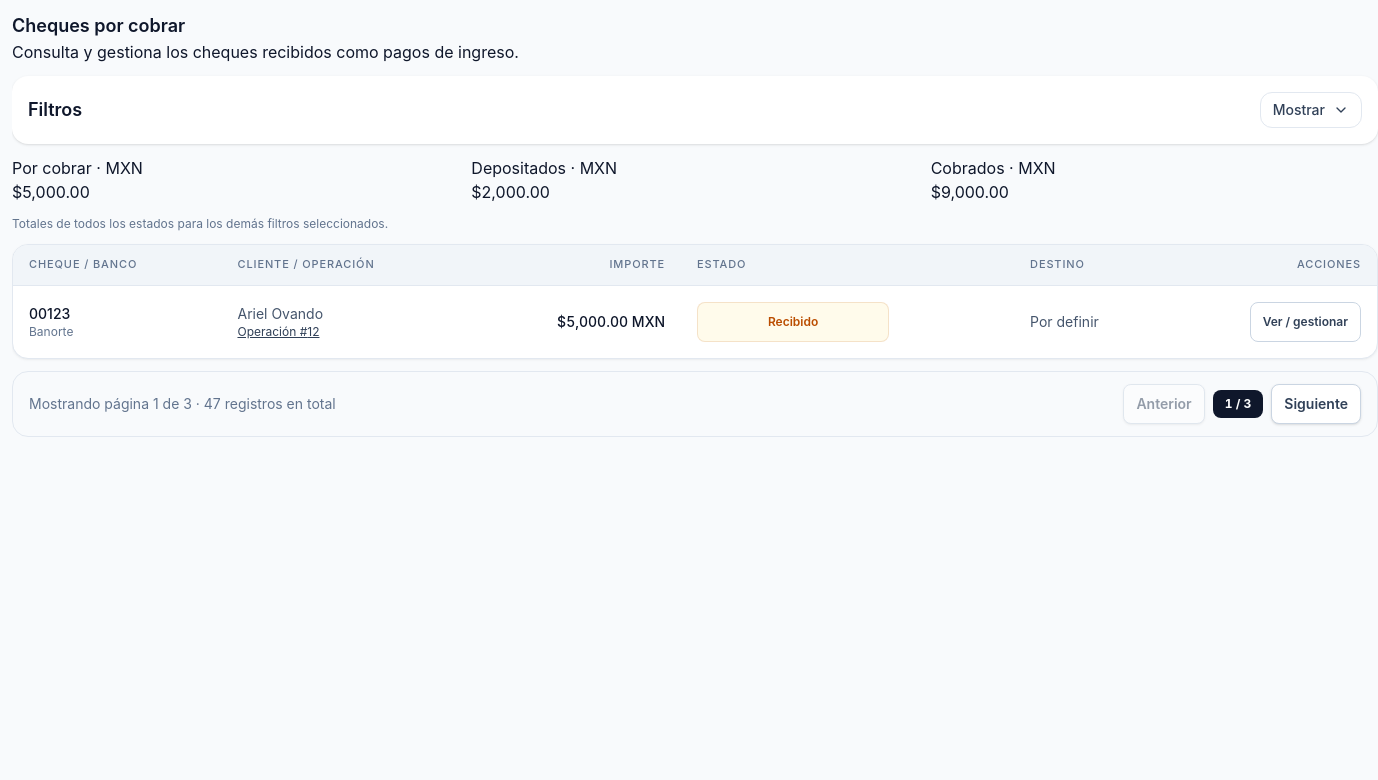
Test case: ChequesPage › avisa cuando el rango de fechas está invertido y no consulta
Expected: the text "00123" is shown, left=29, top=305, right=70, bottom=322
Click the button "Mostrar".
click(1311, 110)  # box left=1260, top=92, right=1362, bottom=128
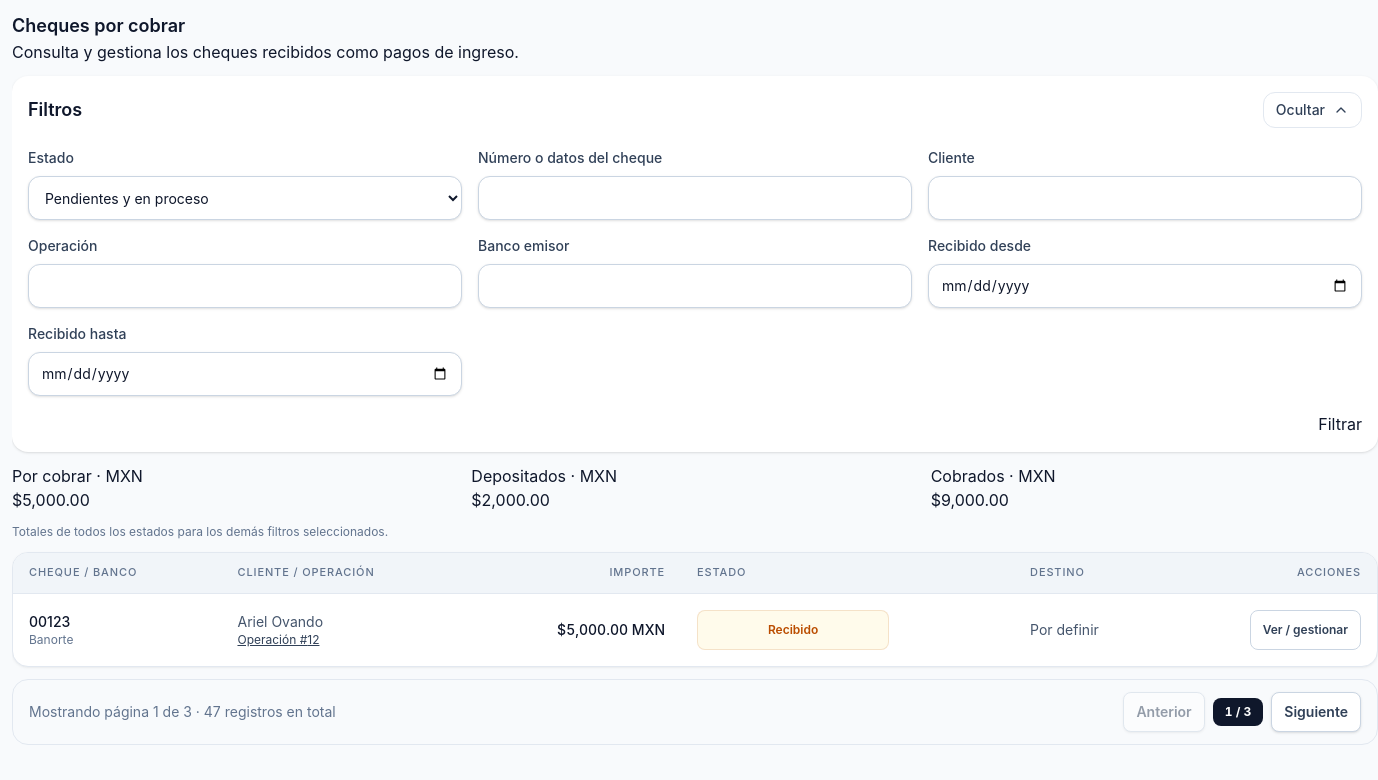
Type "2026-09-20" into the date field labelled "Recibido desde".
click(1145, 286); type("2026-09-20")  # box left=928, top=264, right=1362, bottom=308
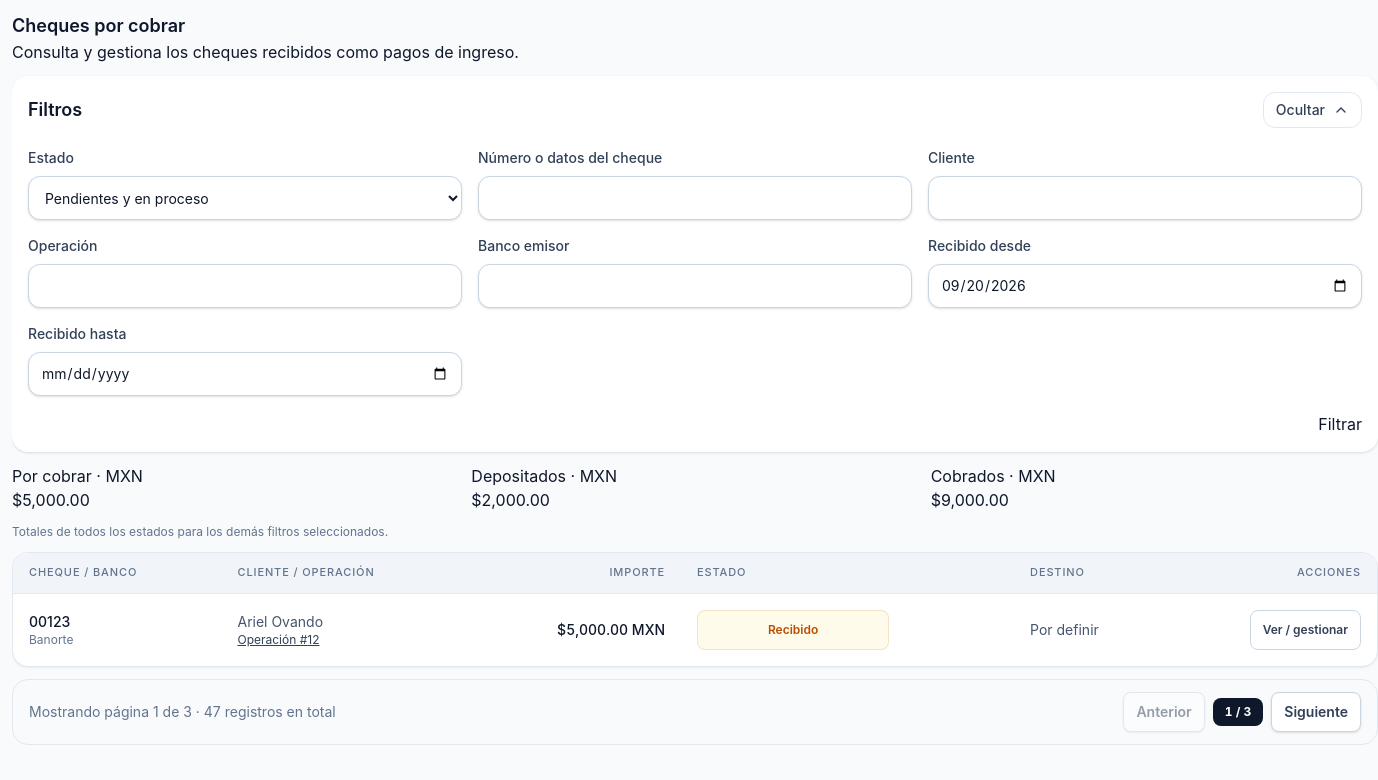
Type "2026-09-01" into the date field labelled "Recibido hasta".
click(245, 374); type("2026-09-01")  # box left=28, top=352, right=462, bottom=396
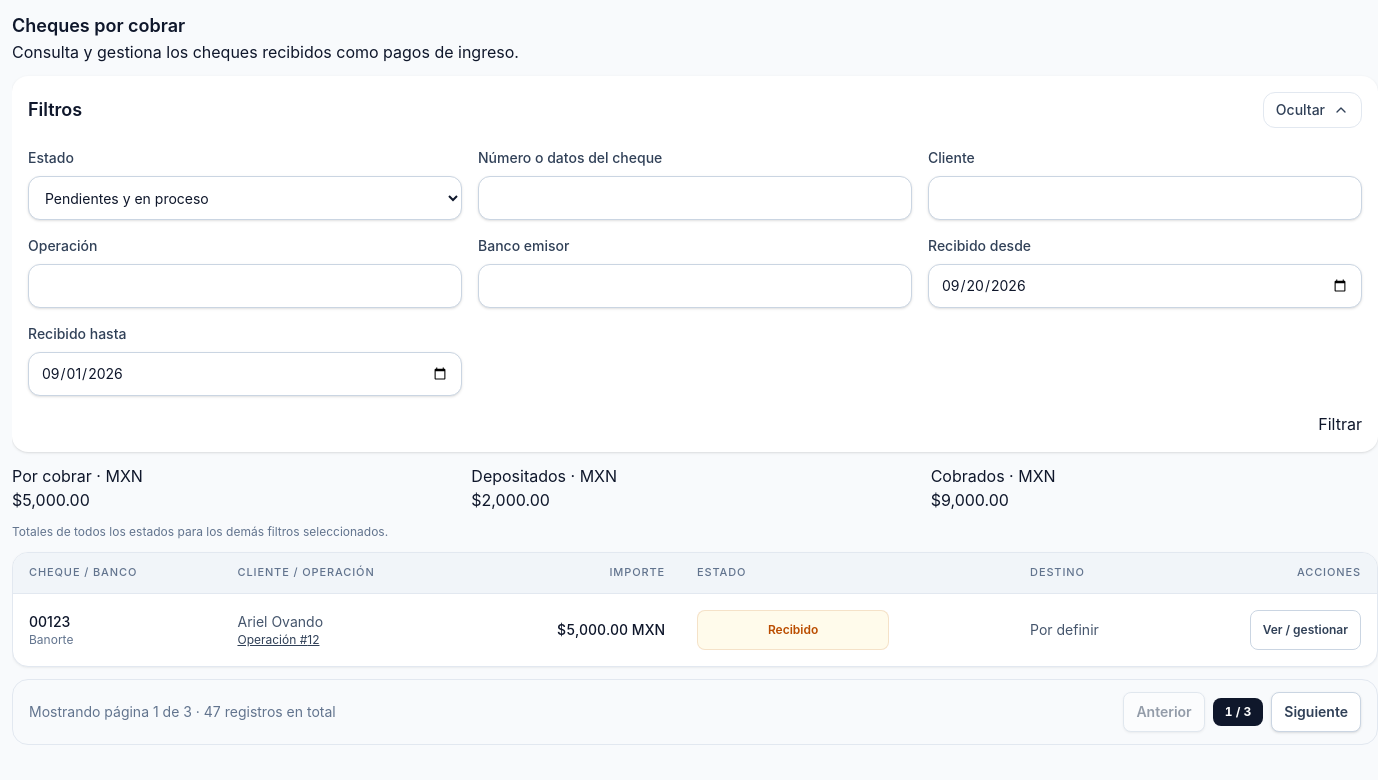
Click the button "Filtrar".
click(1340, 424)  # box left=1318, top=412, right=1362, bottom=436
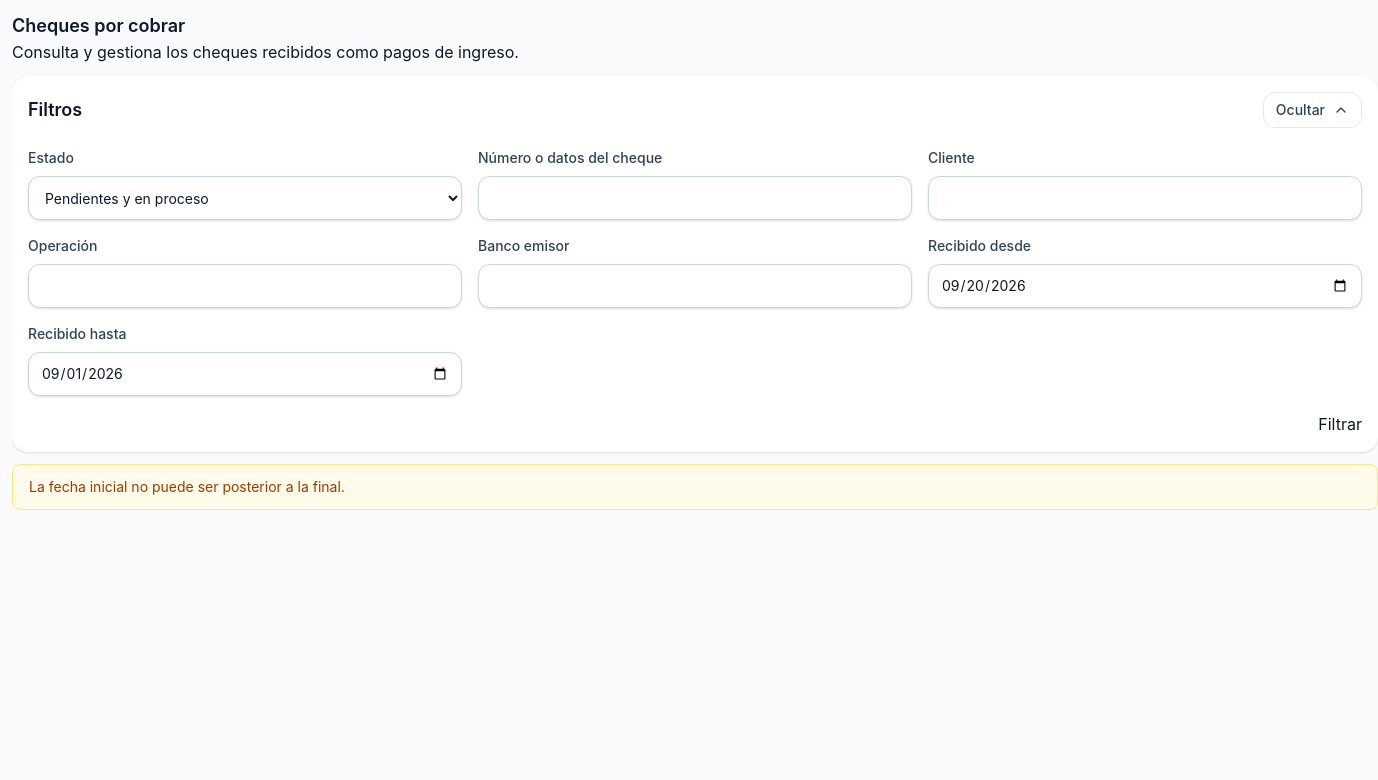
Expected: the message shows "no puede ser posterior", left=29, top=478, right=345, bottom=495
